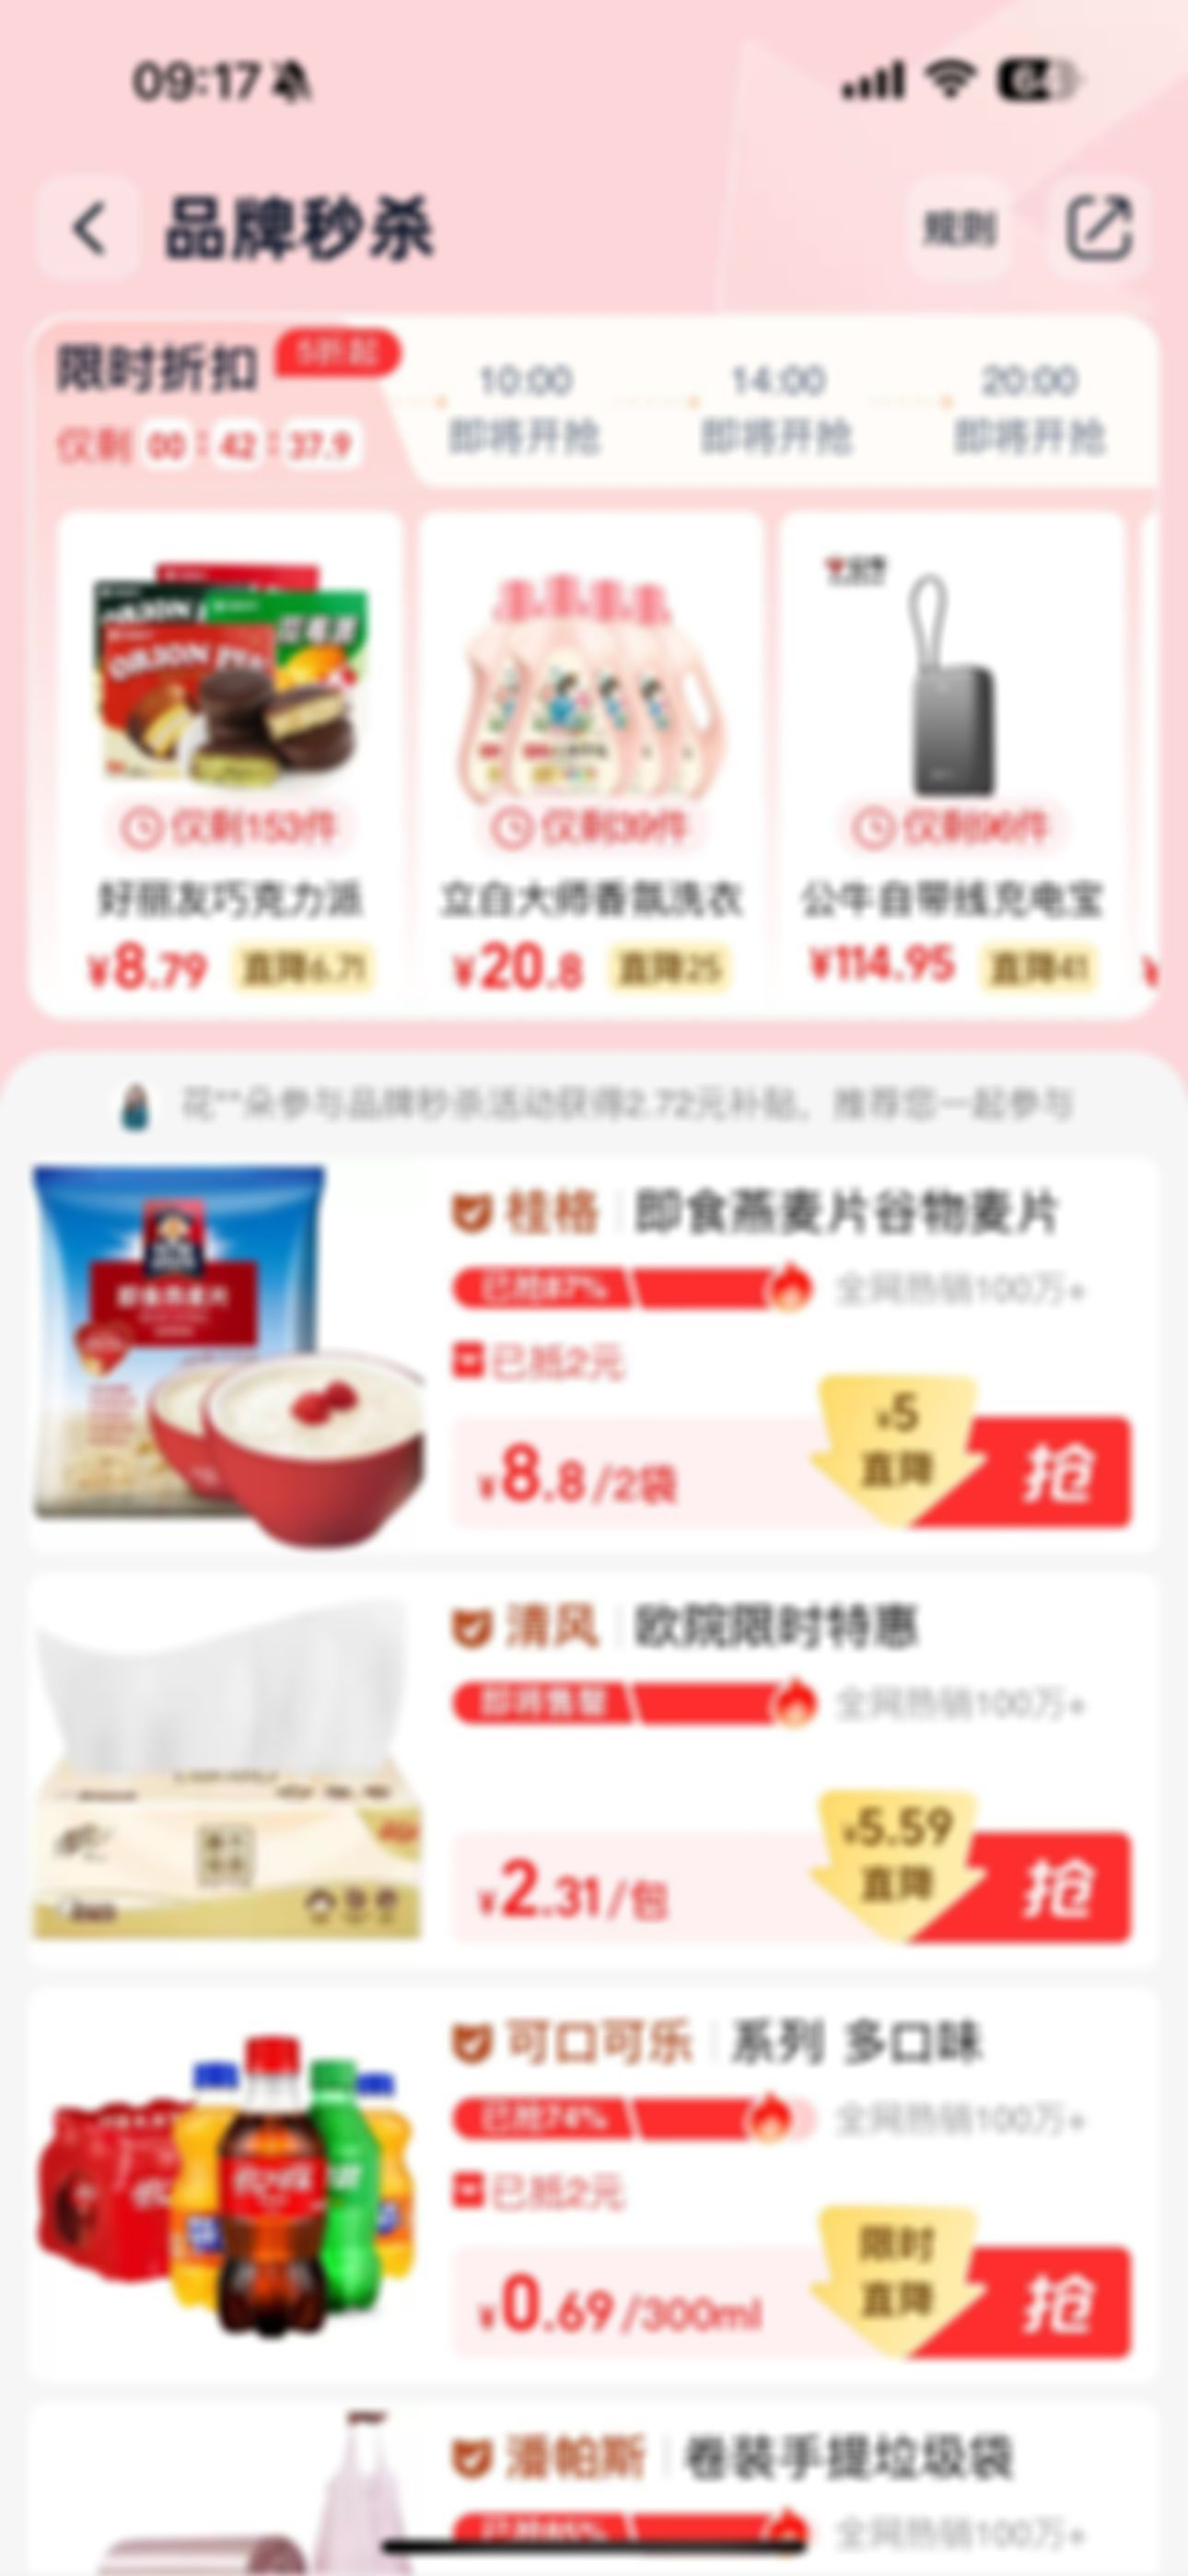item: (16, 1988, 1170, 2408), (3, 1142, 1175, 1556), (5, 1569, 1175, 1976)
op_bar: (12, 151, 1178, 306)
seckill: (13, 322, 1172, 1040), (12, 320, 1170, 1037)
